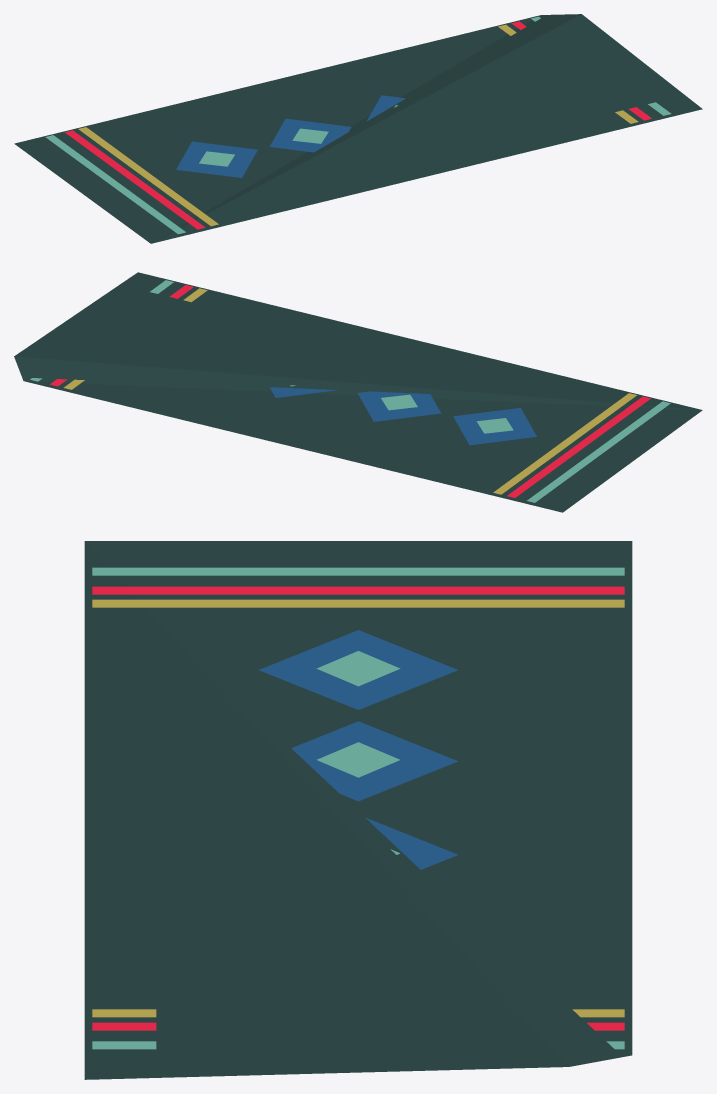
The model's file is PicnicRug.obj.
3 views of the same model, one above another, from view 1: azimuth 30°, elevation 25°; view 2: azimuth 150°, elevation 25°; view 3: azimuth 270°, elevation 25° (orthographic). The views are drawn at different scales.
Parts seen in each view (by area): view 1: PicnicRug; view 2: PicnicRug; view 3: PicnicRug.
Part boxes in pixels (x1,y1,x2,y2): PicnicRug: (14,14,702,243); PicnicRug: (14,272,702,512); PicnicRug: (84,541,632,1079).
Size of the model in its own units: 2.42 by 0.027 by 1.04.
1 material, 1 textured.
